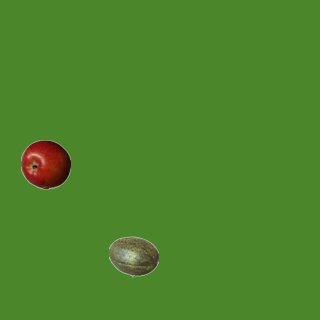Apple Braeburn: (20, 139, 70, 189)
Melon Piel de Sapo: (108, 231, 158, 281)
